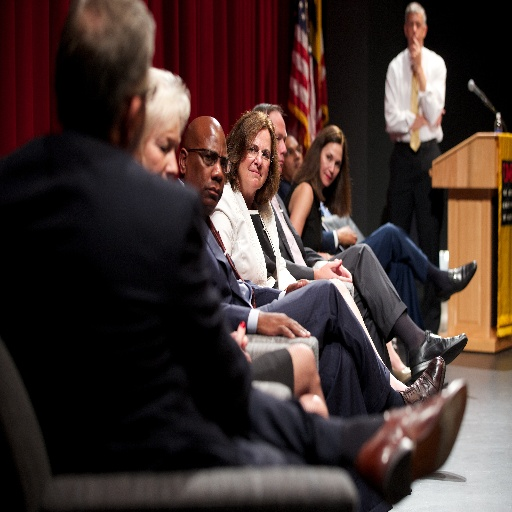hand: (256, 310, 312, 338), (313, 258, 352, 283), (233, 317, 253, 364), (407, 32, 420, 73), (283, 277, 311, 296), (422, 105, 446, 127), (228, 326, 248, 351), (337, 224, 358, 247), (333, 258, 352, 278)
